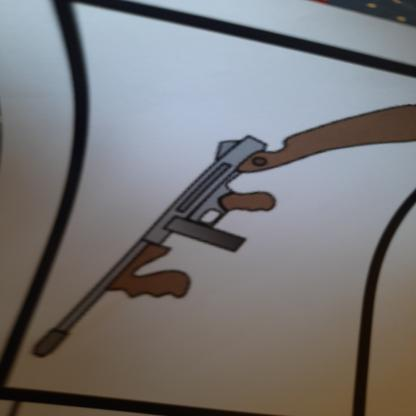Bootlegger: (22, 98, 416, 381)
